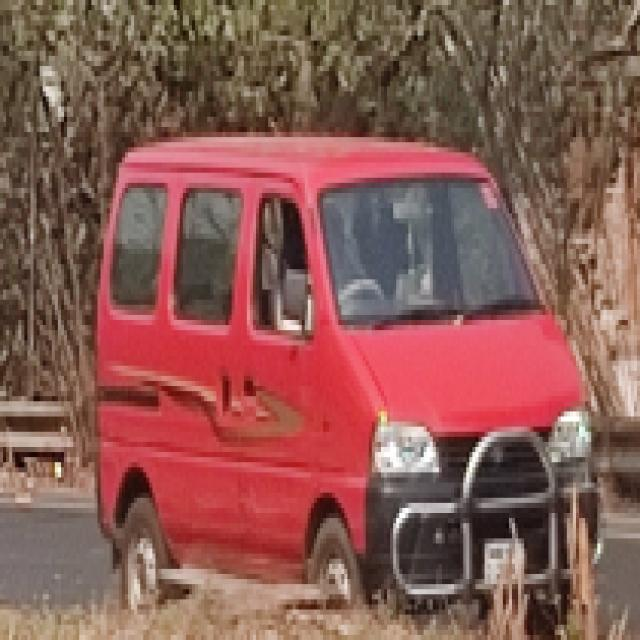van: (89, 127, 606, 625)
